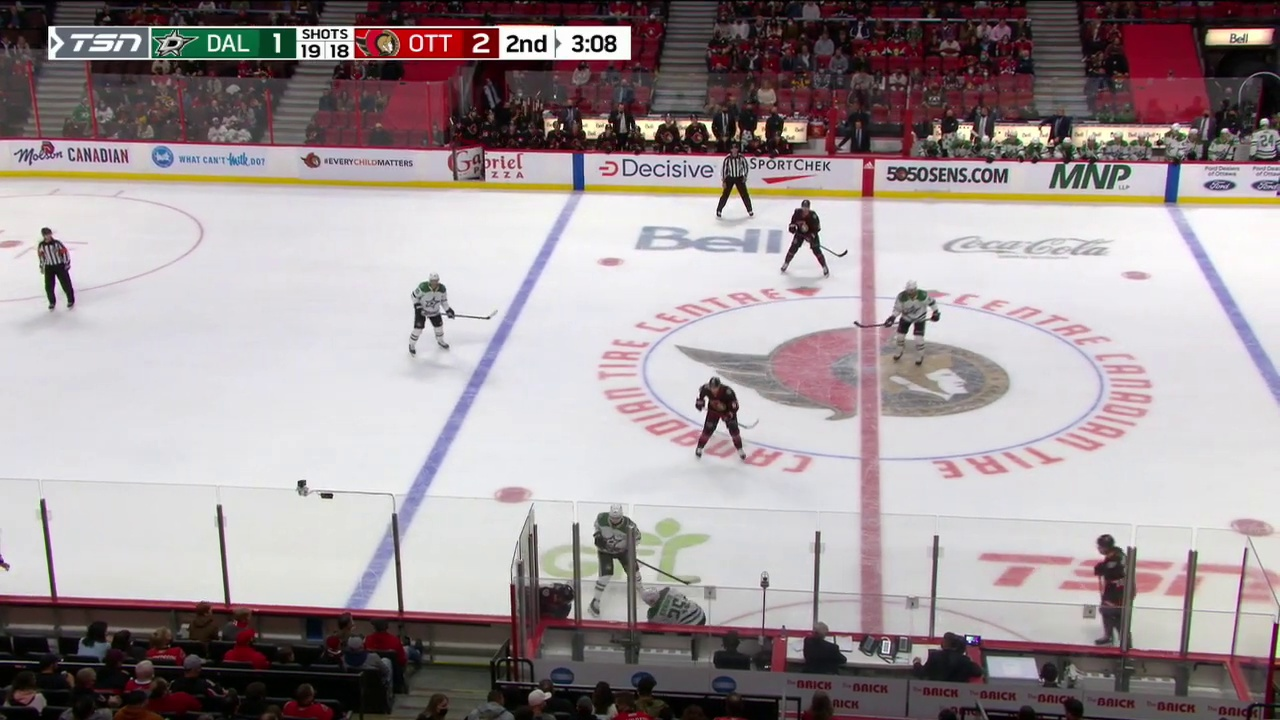hockeyplayer: (586, 504, 646, 618), (885, 281, 940, 367), (1095, 534, 1136, 648), (695, 377, 745, 461), (407, 272, 455, 357), (779, 199, 829, 279), (640, 586, 706, 625), (516, 583, 574, 617)
referee: (38, 228, 76, 312), (716, 143, 754, 219)
